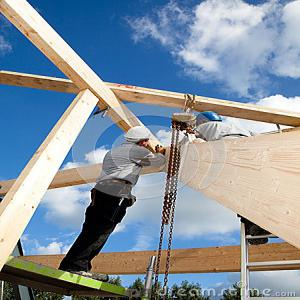blue: (196, 110, 221, 129)
white: (121, 126, 153, 148)
